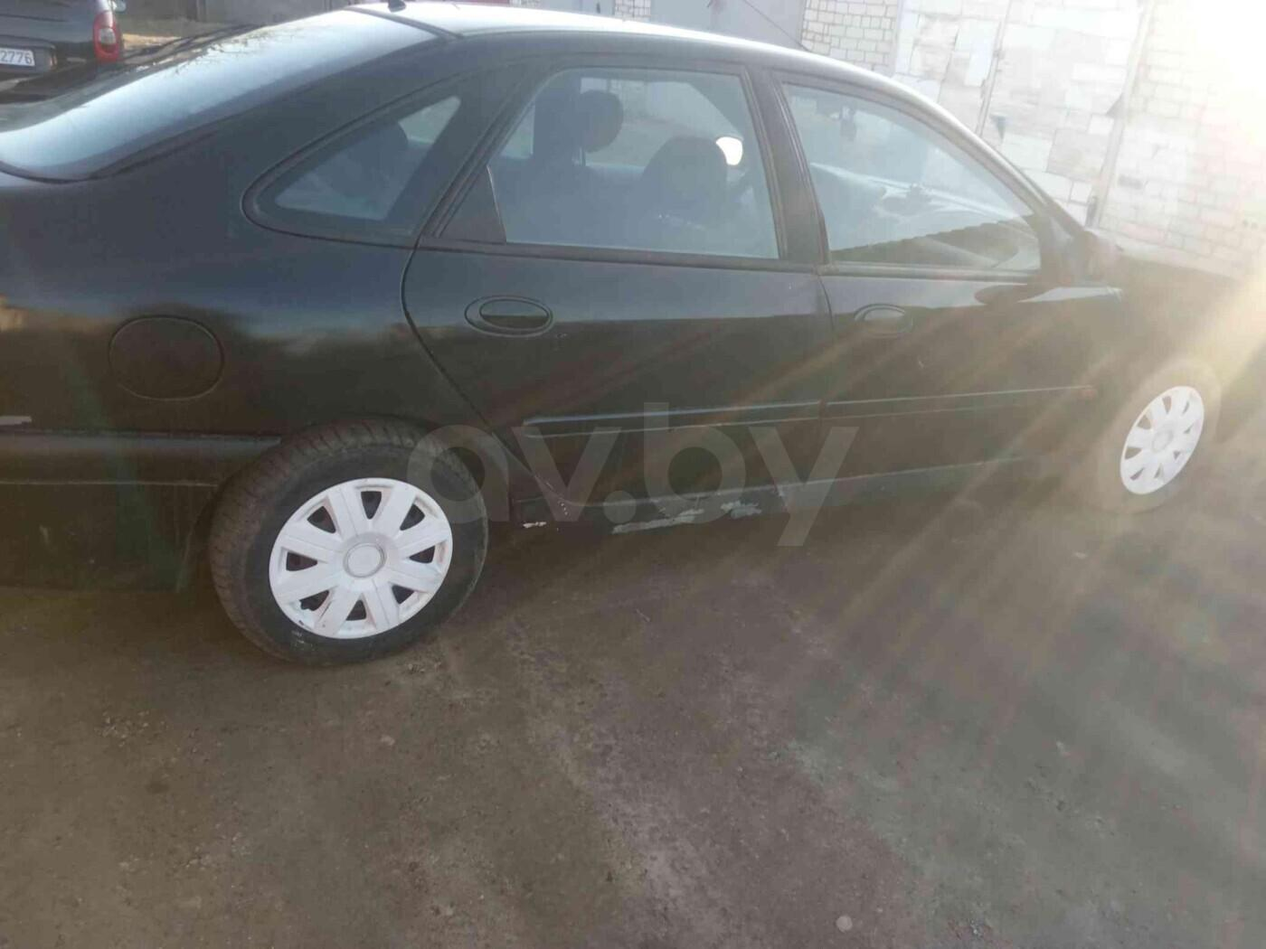Lahuna_1993-1999: (0, 0, 1266, 680)
